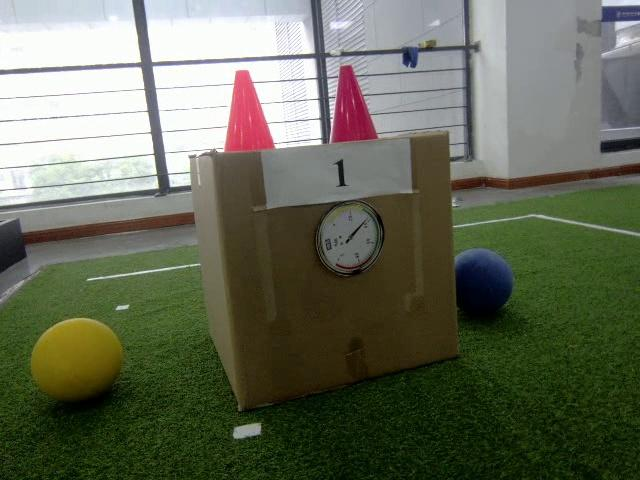1: (330, 157, 351, 188)
Dashboard: (311, 201, 386, 278)
blue_ball: (456, 245, 515, 321)
orange_barrel: (223, 68, 278, 152)
red_barrel: (326, 64, 382, 143)
ssi: (323, 238, 334, 252)
yellow_ball: (29, 317, 124, 404)
